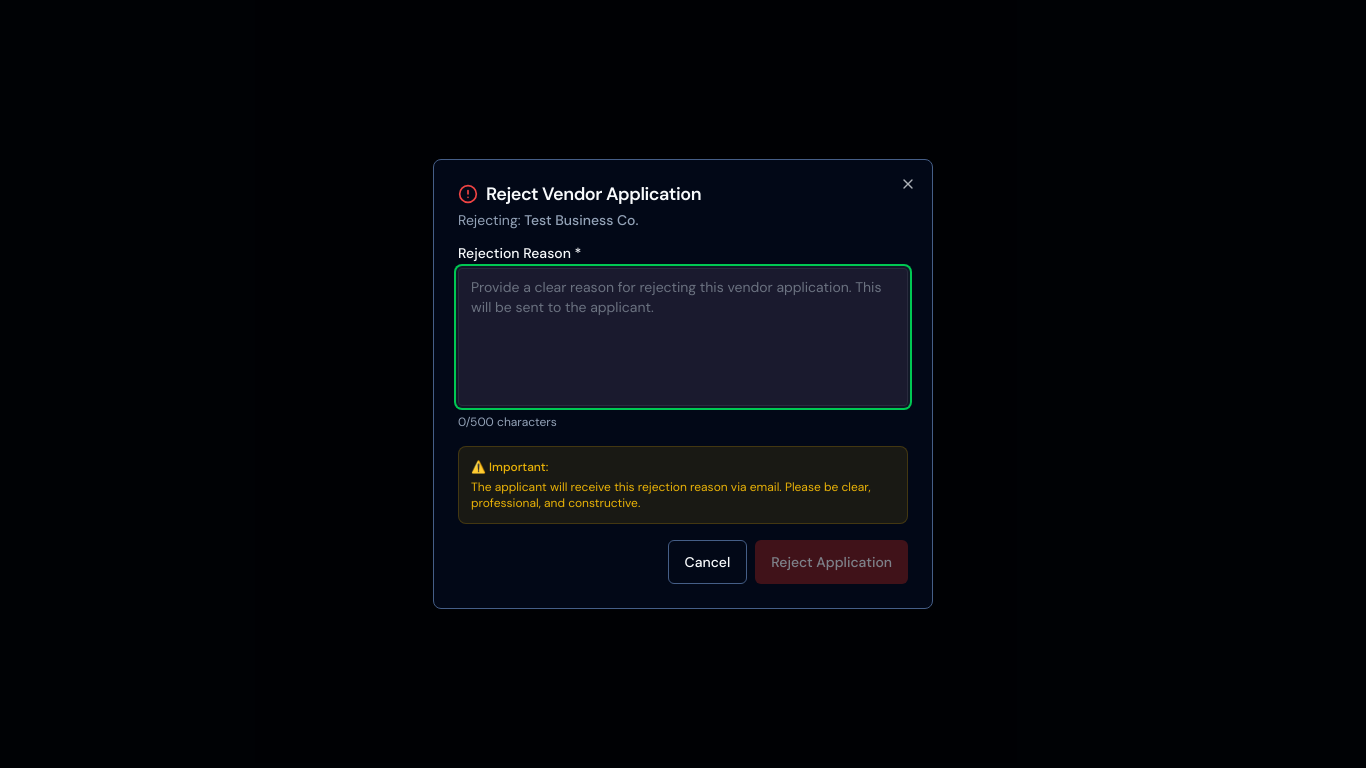
Scenario: RejectVendorModal › displays character count
The width and height of the screenshot is (1366, 768).
Replace the text in the text box with placeholder "Provide a clear reason" with "Test reason" at (683, 337), box [458,268,908,406]
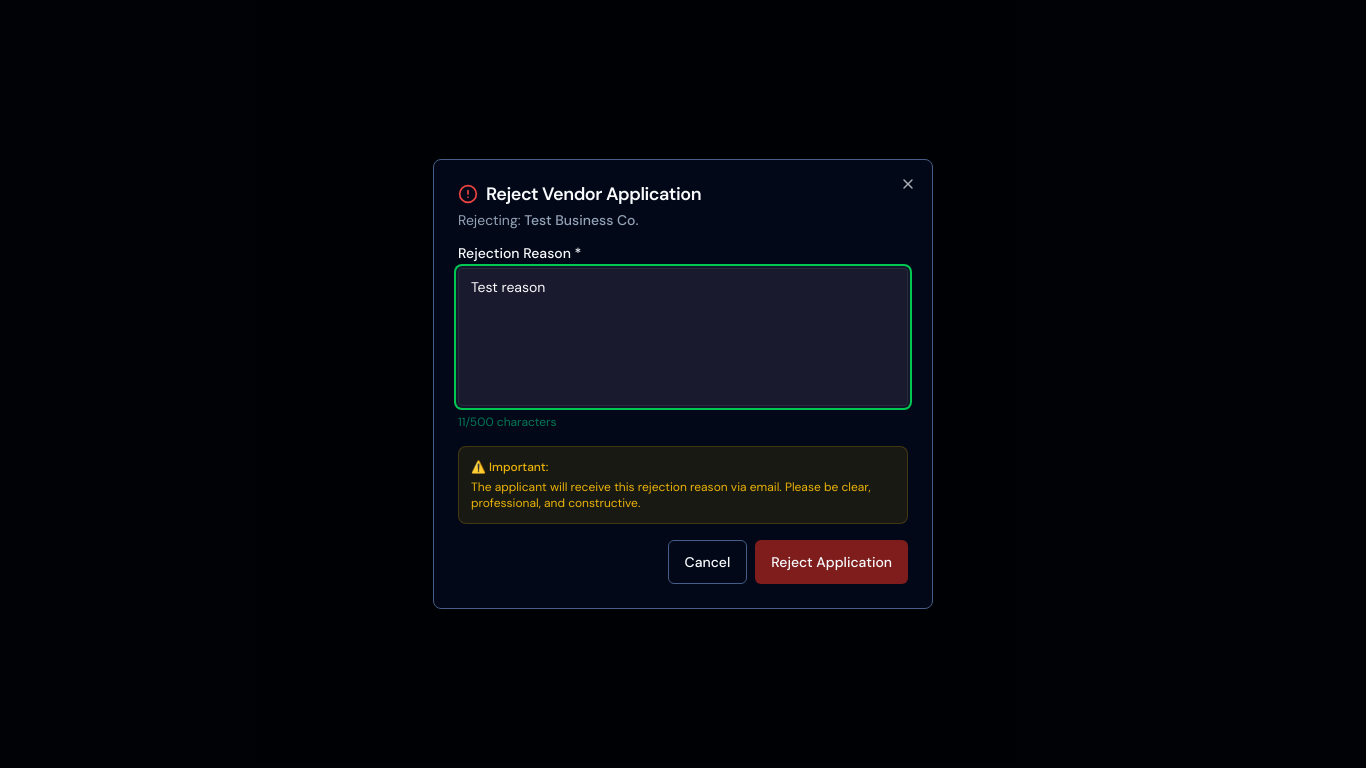
Now the text "11/500 characters" is shown, box [458,414,557,430]
